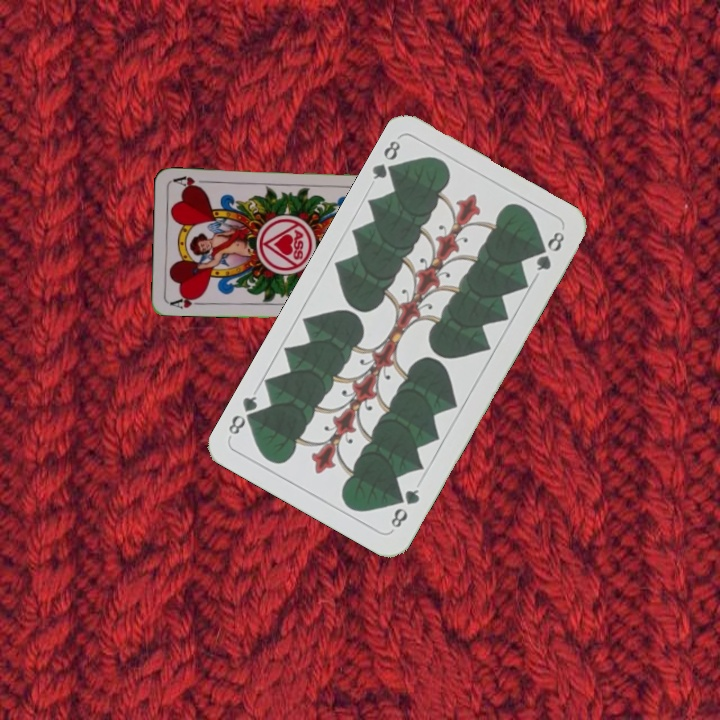G8: (368, 136, 404, 183), (386, 485, 422, 531)
HA: (166, 292, 206, 311)
